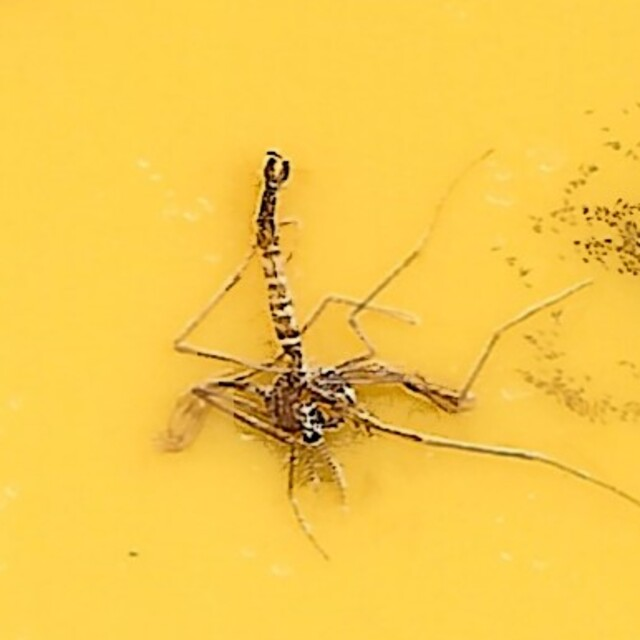Nematocera: (166, 156, 474, 484)
